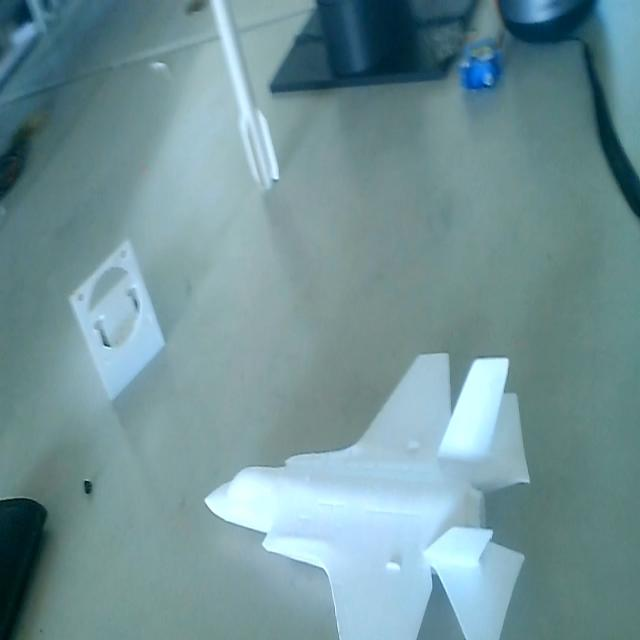Jet: (198, 346, 531, 640)
Rocket: (205, 0, 285, 195)
